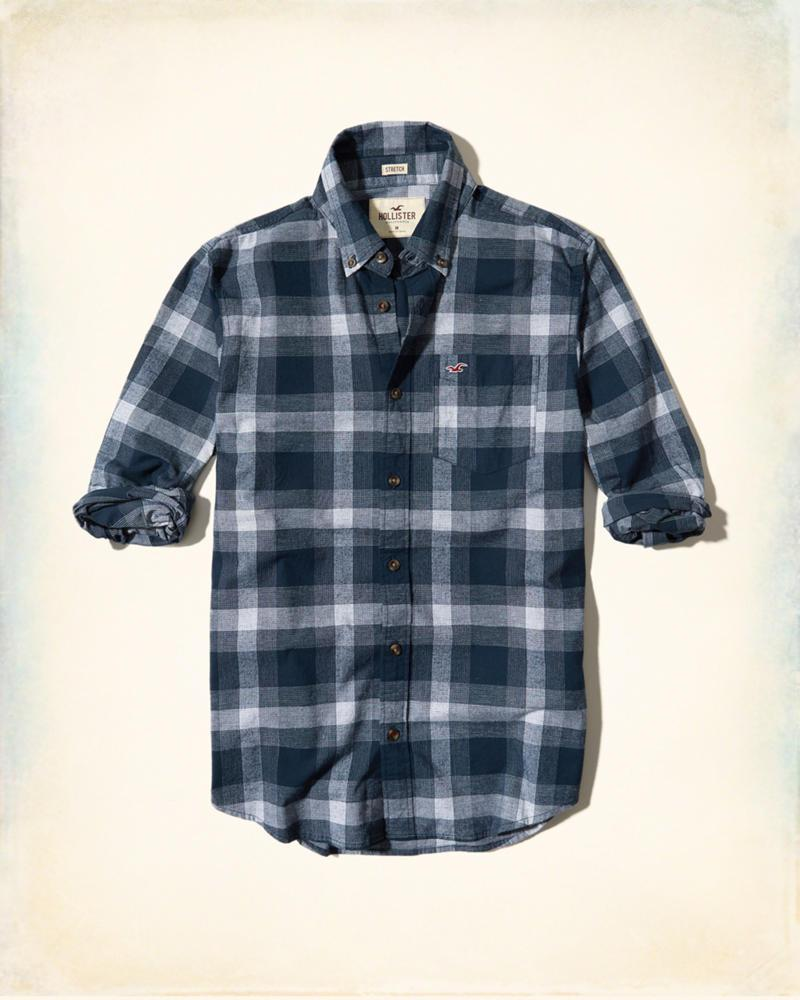teeshirt: (68, 113, 733, 865)
